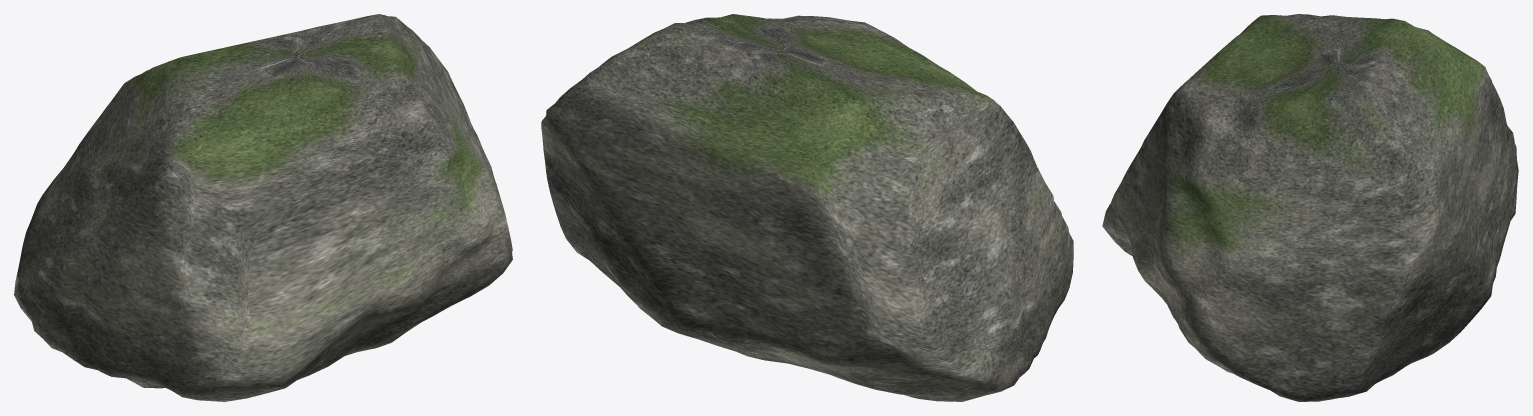
Rendered from Boulder001_A_LOD1.gltf.
3 renders of one model, left to right at view 1: azimuth 30°, elevation 25°; view 2: azimuth 150°, elevation 25°; view 3: azimuth 270°, elevation 25°, orthographic. The views are drawn at different scales.
Parts seen in each view (by area): view 1: Boulder001_A_LOD1; view 2: Boulder001_A_LOD1; view 3: Boulder001_A_LOD1.
Part boxes in pixels (<box>): Boulder001_A_LOD1: <box>14,14,512,401</box>; Boulder001_A_LOD1: <box>541,14,1073,401</box>; Boulder001_A_LOD1: <box>1102,14,1518,401</box>.
Size of the model in its own units: 5.52 by 3.47 by 4.33.
1 material, 1 textured.
